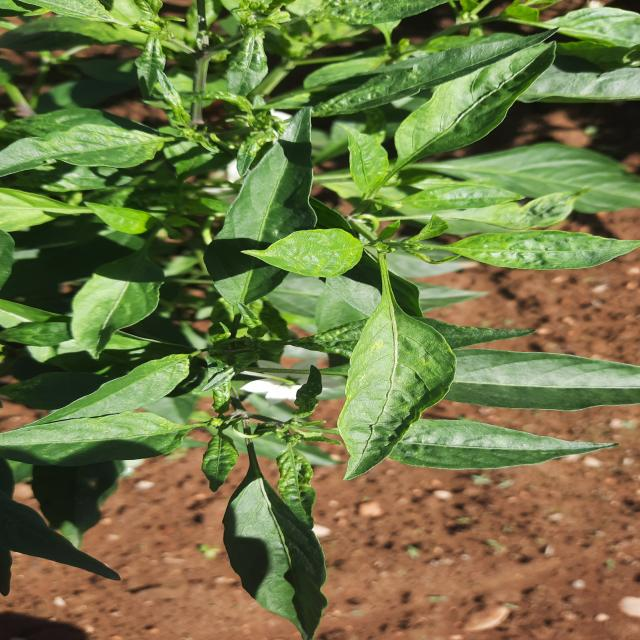thrips: (258, 296, 466, 474), (438, 230, 637, 278), (418, 182, 592, 232)
